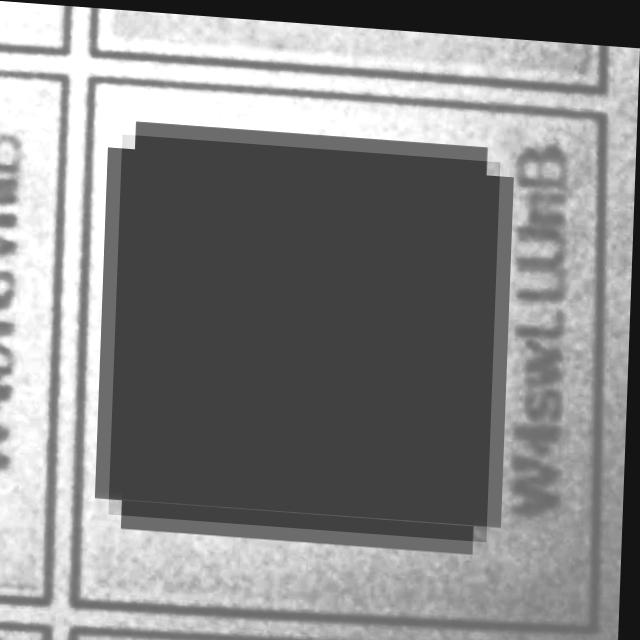qr_code: (112, 131, 501, 533)
